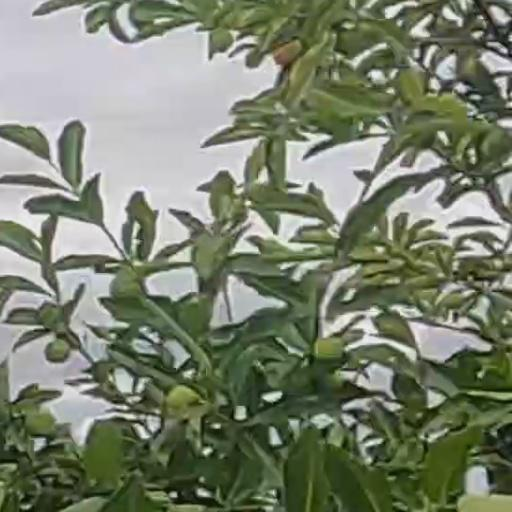acerola: (315, 336, 340, 359), (274, 42, 296, 63), (209, 29, 232, 49), (46, 341, 69, 360)
